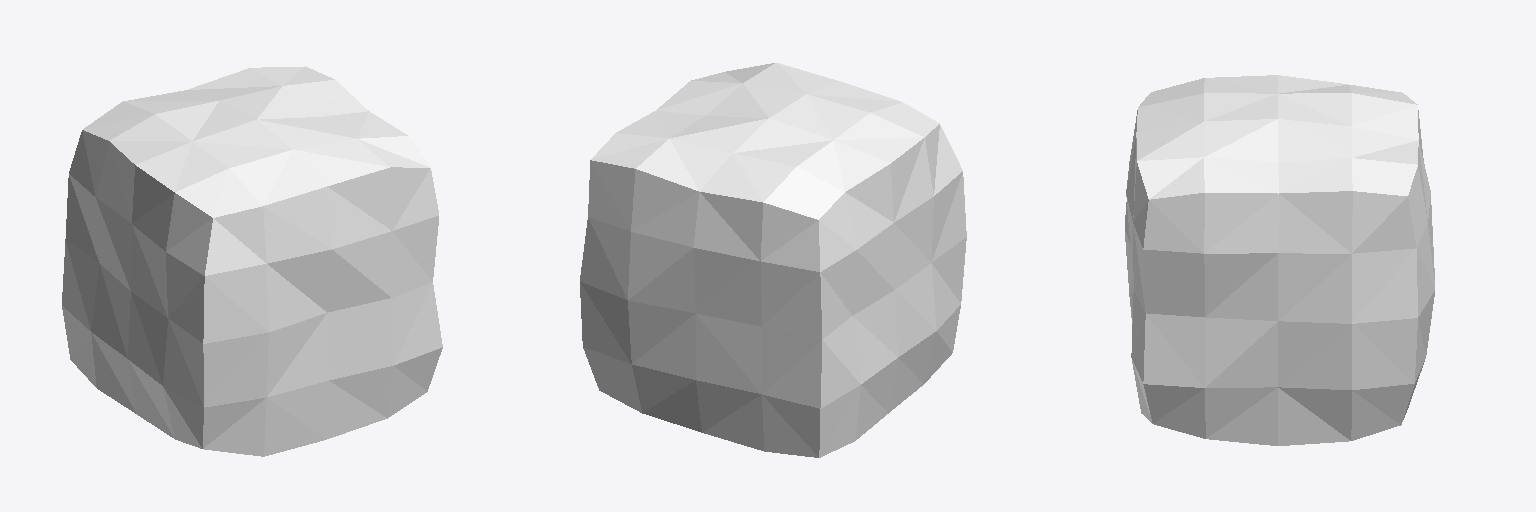
Rendered from wall2.obj.
3 renders of one model, left to right at view 1: azimuth 30°, elevation 25°; view 2: azimuth 150°, elevation 25°; view 3: azimuth 270°, elevation 25°, orthographic.
Visible parts, largest first — view 1: KillerFrostIceBlock; view 2: KillerFrostIceBlock; view 3: KillerFrostIceBlock.
Boxes of the visible parts, x1,y1,x2,y2 form: KillerFrostIceBlock: [62, 66, 442, 456]; KillerFrostIceBlock: [580, 63, 966, 457]; KillerFrostIceBlock: [1125, 75, 1434, 445].
Bounding box in the file's own units: 1.09 × 1.09 × 1.12.